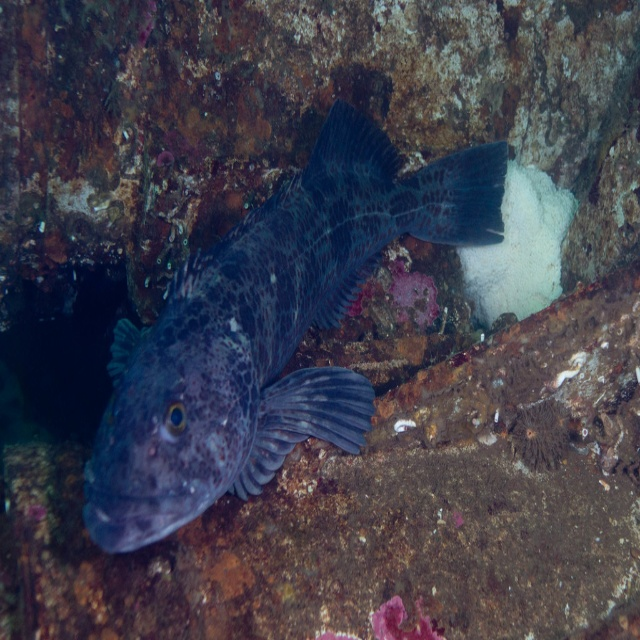Fish: (80, 91, 505, 555)
